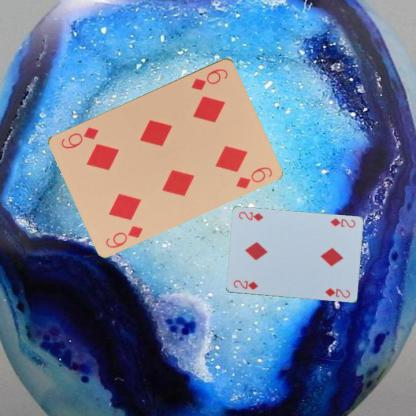2d: (230, 277, 259, 292), (327, 215, 356, 229)
6d: (103, 222, 144, 249), (188, 66, 230, 92)
